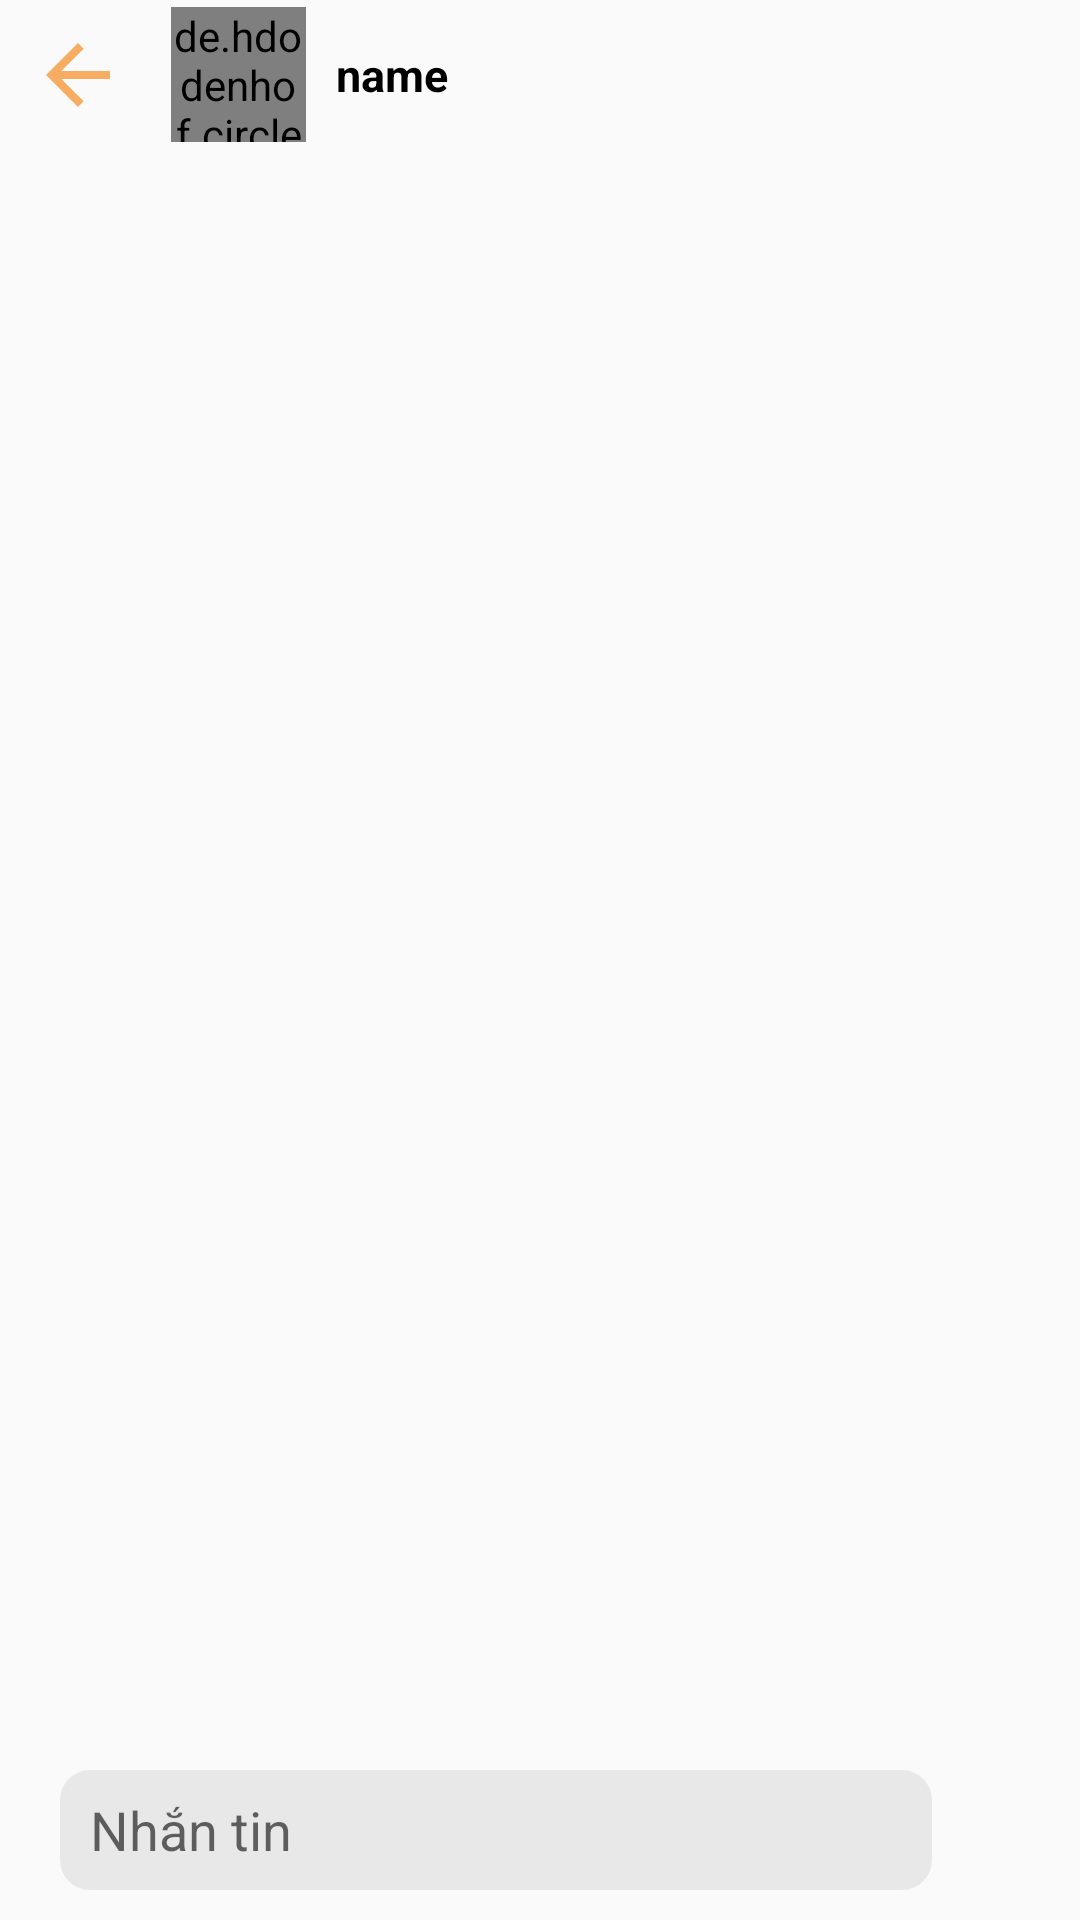

Icons on this 1080px x 1920px Android screen, each with the point to tap as [x,y]:
arrow back: [78,75]
